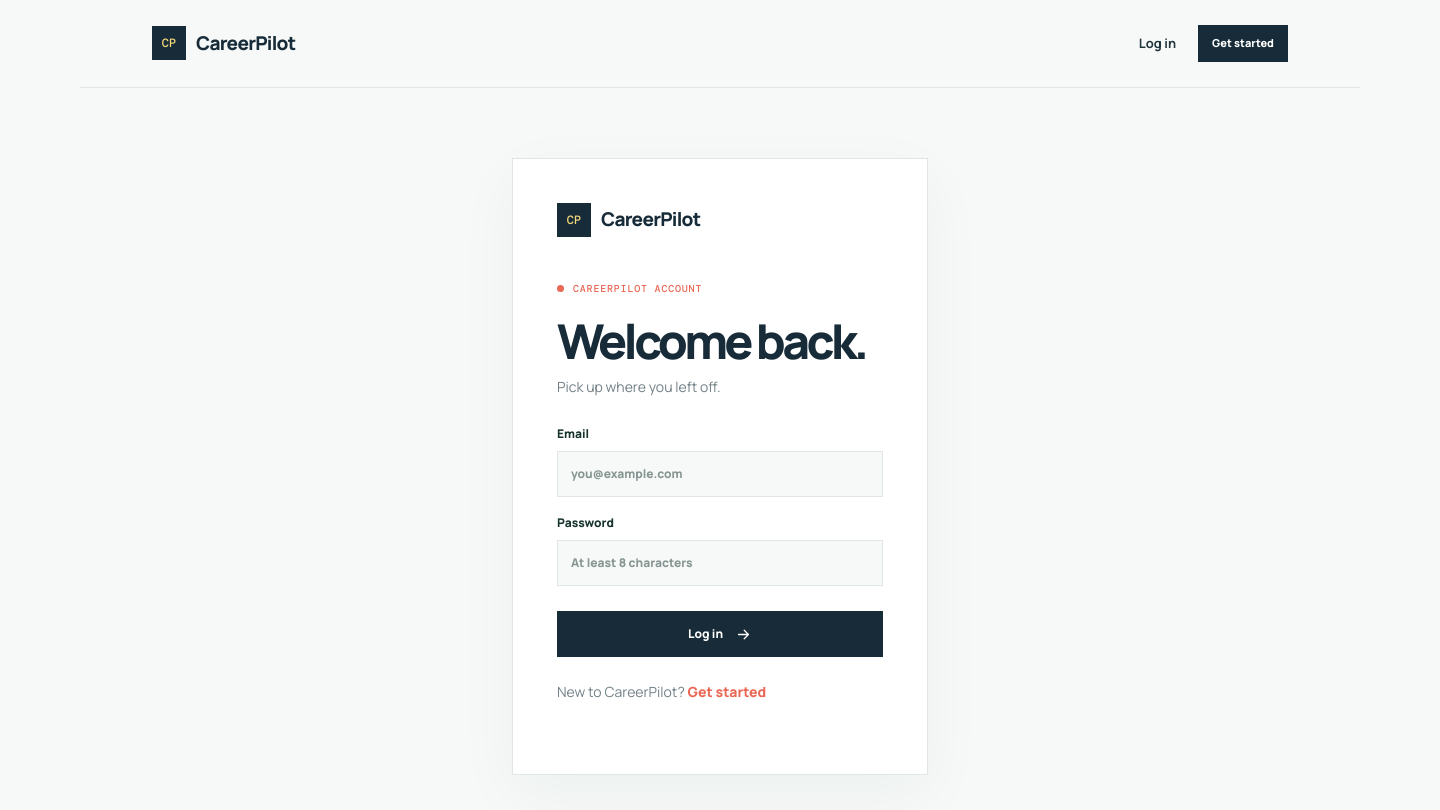
it: CareerPilot application flows › shows login validation errors returned by the API
Type "ada@example.com" into the field labelled "Email" at (720,474), box 557,451 -> 883,497
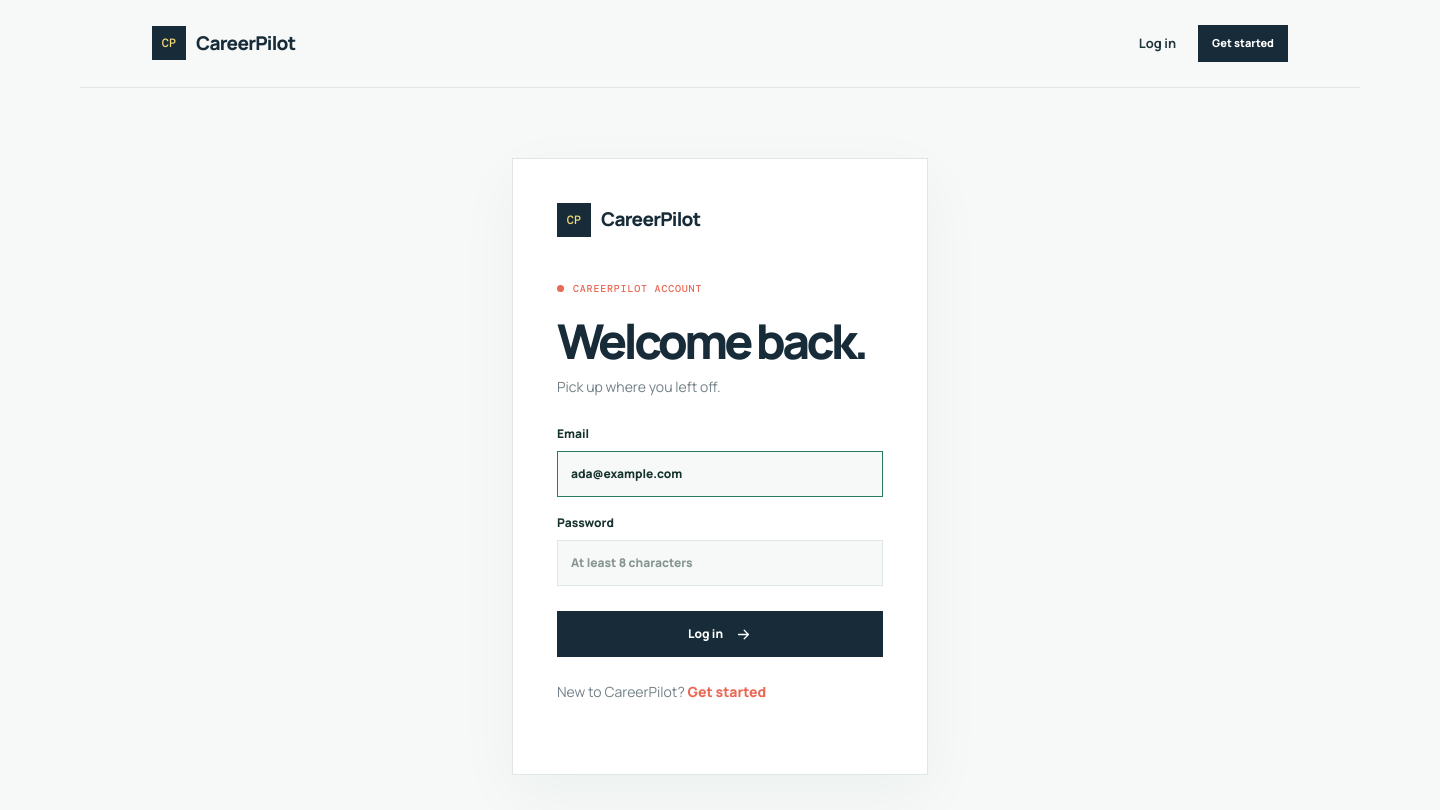
Type "wrong-password" into the password field labelled "Password" at (720,563), box 557,540 -> 883,586
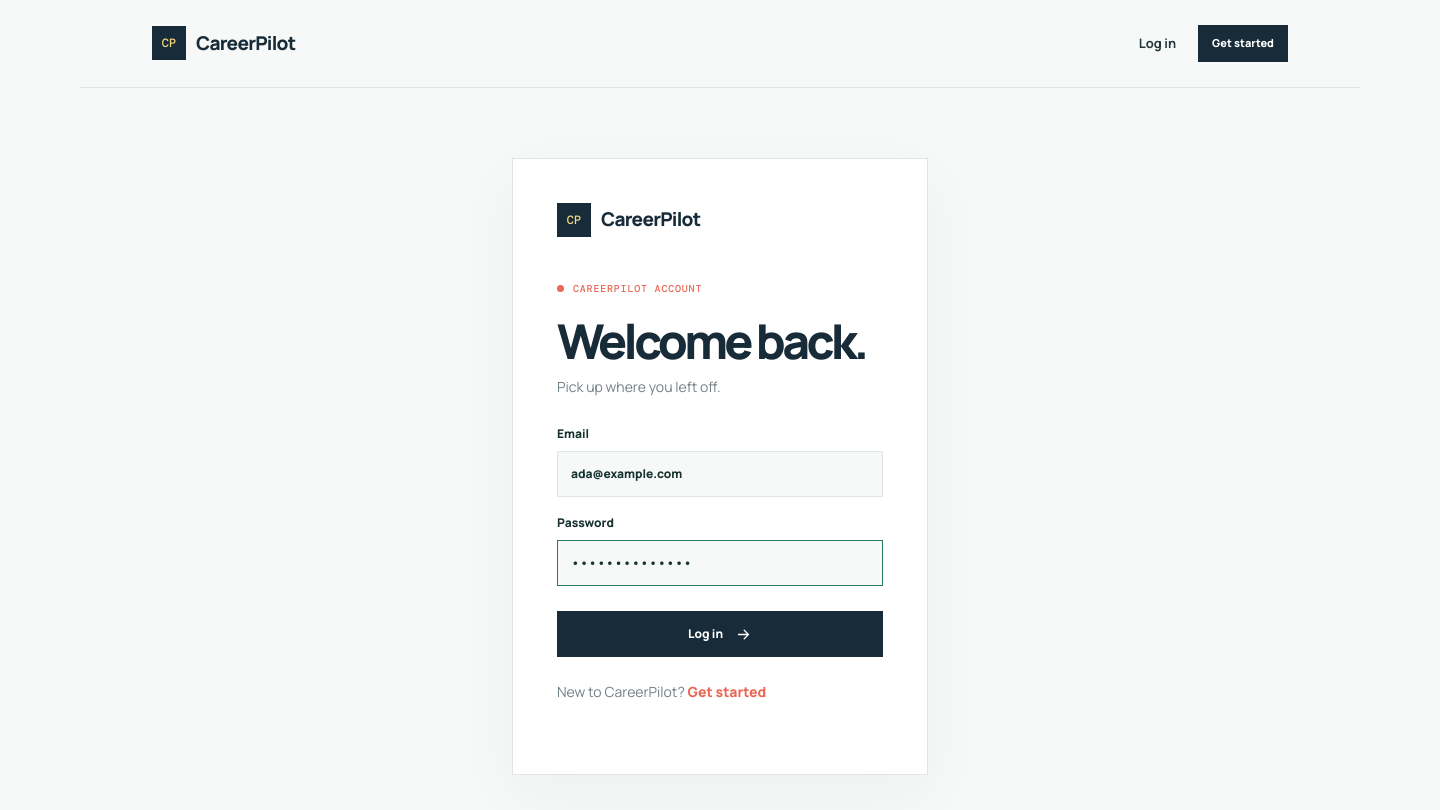
Click the button "Log in" at (720,634), box 557,611 -> 883,657
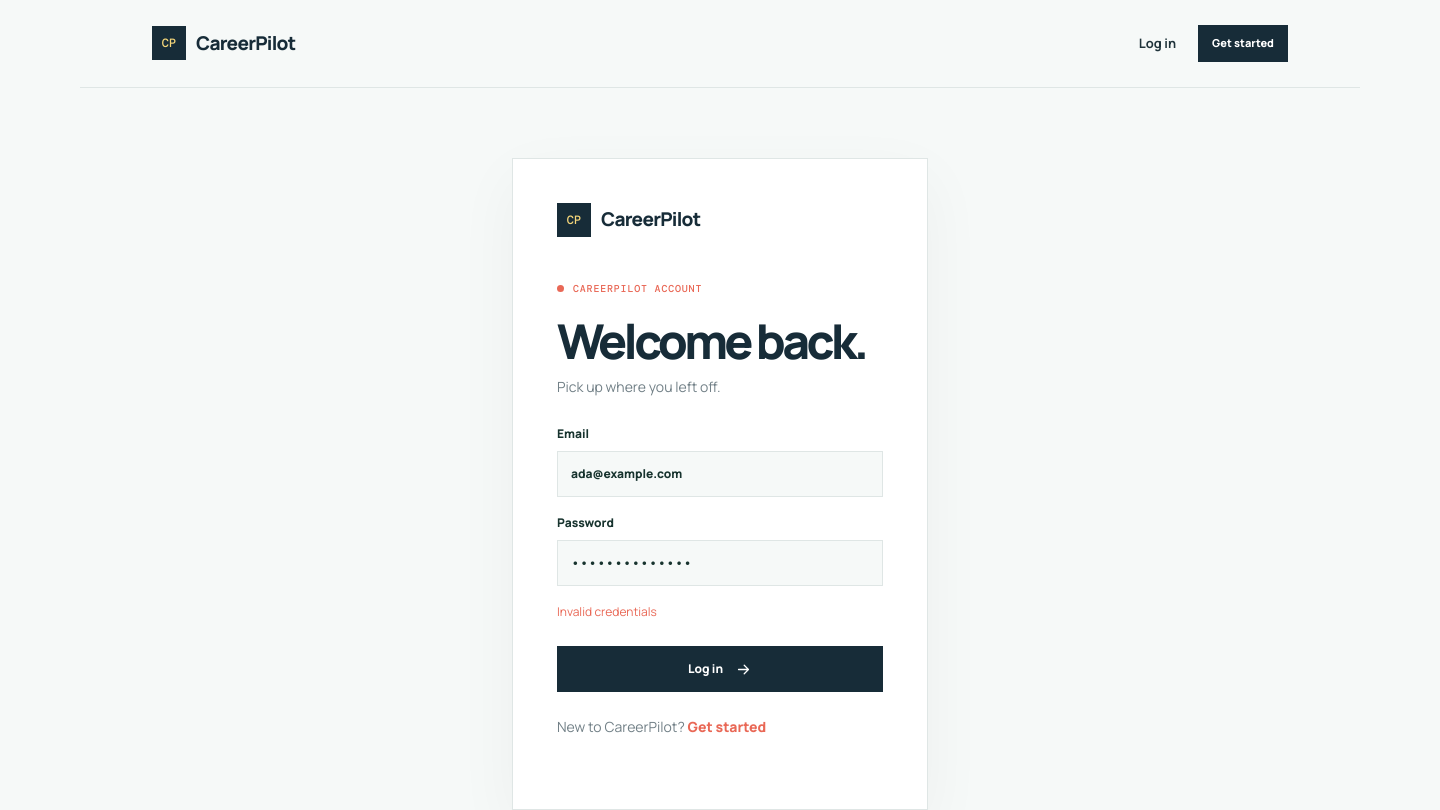
Check: the message reads "Invalid credentials", box 557,603 -> 657,620
